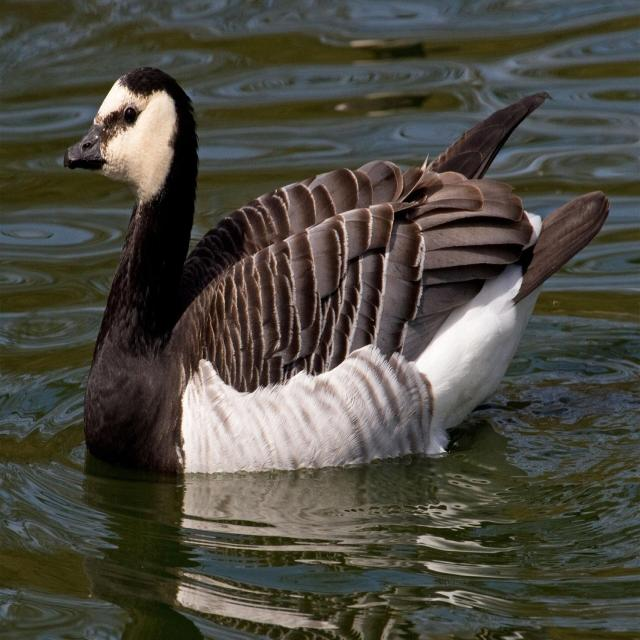Goose: (56, 61, 610, 475)
